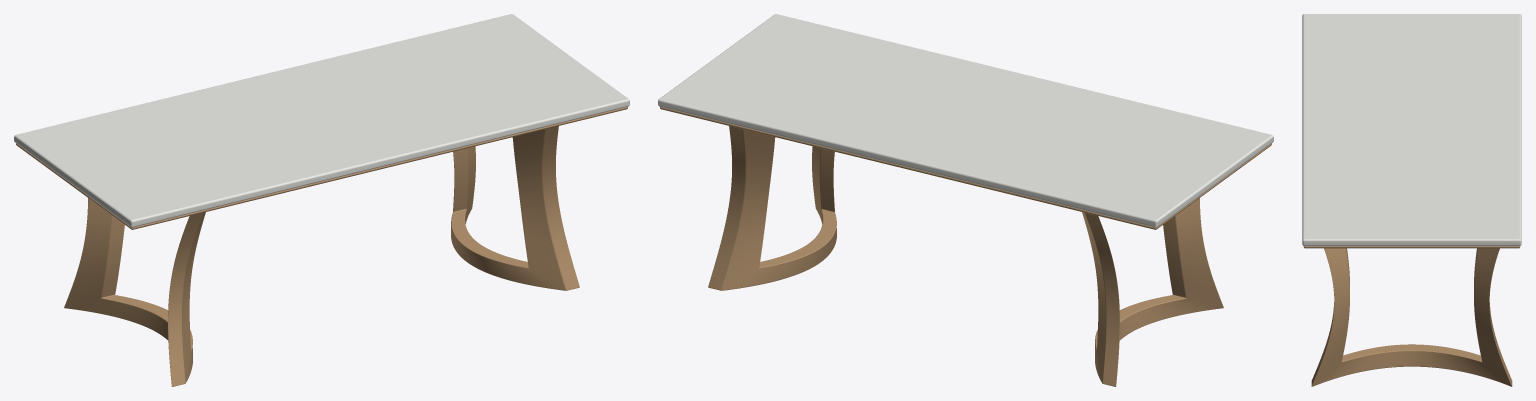
Rendered from masa.glb.
3 renders of one model, left to right at view 1: azimuth 30°, elevation 25°; view 2: azimuth 150°, elevation 25°; view 3: azimuth 270°, elevation 25°, orthographic. The views are drawn at different scales.
Visible parts, largest first — view 1: Tabla - 220 x 90 cm, Sag - tasmasiz tek parca yay ayak, Sol - tasmasiz tek parca yay ayak, Ince ahsap tabla alti; view 2: Tabla - 220 x 90 cm, Sag - tasmasiz tek parca yay ayak, Sol - tasmasiz tek parca yay ayak, Ince ahsap tabla alti; view 3: Tabla - 220 x 90 cm, Sag - tasmasiz tek parca yay ayak, Ince ahsap tabla alti.
Boxes of the visible parts, x1=… form: Tabla - 220 x 90 cm: x1=14, y1=14, x2=629, y2=227; Sag - tasmasiz tek parca yay ayak: x1=451, y1=126, x2=579, y2=290; Sol - tasmasiz tek parca yay ayak: x1=64, y1=198, x2=205, y2=386; Ince ahsap tabla alti: x1=16, y1=107, x2=627, y2=229; Tabla - 220 x 90 cm: x1=658, y1=14, x2=1273, y2=227; Sag - tasmasiz tek parca yay ayak: x1=708, y1=126, x2=836, y2=290; Sol - tasmasiz tek parca yay ayak: x1=1082, y1=198, x2=1223, y2=386; Ince ahsap tabla alti: x1=660, y1=107, x2=1271, y2=229; Tabla - 220 x 90 cm: x1=1302, y1=14, x2=1521, y2=246; Sag - tasmasiz tek parca yay ayak: x1=1311, y1=248, x2=1512, y2=386; Ince ahsap tabla alti: x1=1303, y1=246, x2=1520, y2=248.
Bounding box in the file's own units: 2.2 × 0.762 × 0.9.
